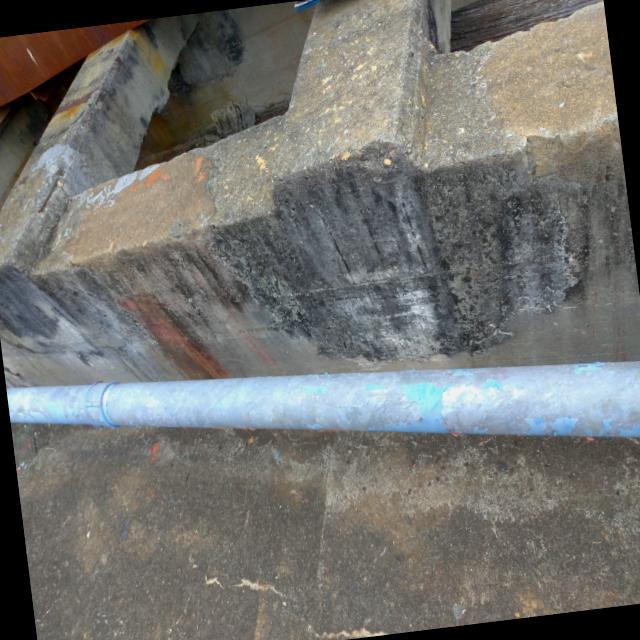gas: (6, 360, 640, 439)
